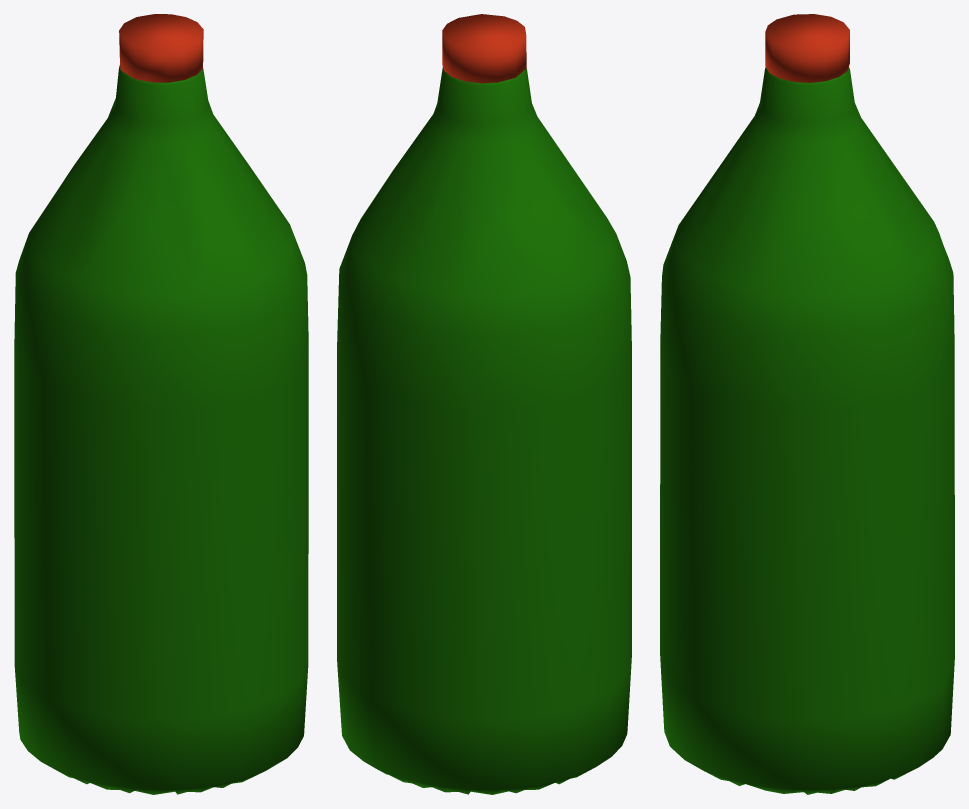
Rendered from Bottle1.fbx.
The picture shows the model from 3 angles, left to right: view 1: azimuth 30°, elevation 25°; view 2: azimuth 150°, elevation 25°; view 3: azimuth 270°, elevation 25°; orthographic projection.
Visible parts, largest first — view 1: Bottom01.001_Baked, Bottom01 cap_Baked; view 2: Bottom01.001_Baked, Bottom01 cap_Baked; view 3: Bottom01.001_Baked, Bottom01 cap_Baked.
Boxes of the visible parts, x1=… form: Bottom01.001_Baked: x1=14, y1=65, x2=308, y2=794; Bottom01 cap_Baked: x1=119, y1=14, x2=203, y2=82; Bottom01.001_Baked: x1=337, y1=67, x2=631, y2=794; Bottom01 cap_Baked: x1=442, y1=14, x2=526, y2=83; Bottom01.001_Baked: x1=660, y1=67, x2=954, y2=794; Bottom01 cap_Baked: x1=765, y1=14, x2=849, y2=82.
Size of the model in its own units: 3.97 by 10.61 by 3.96.
